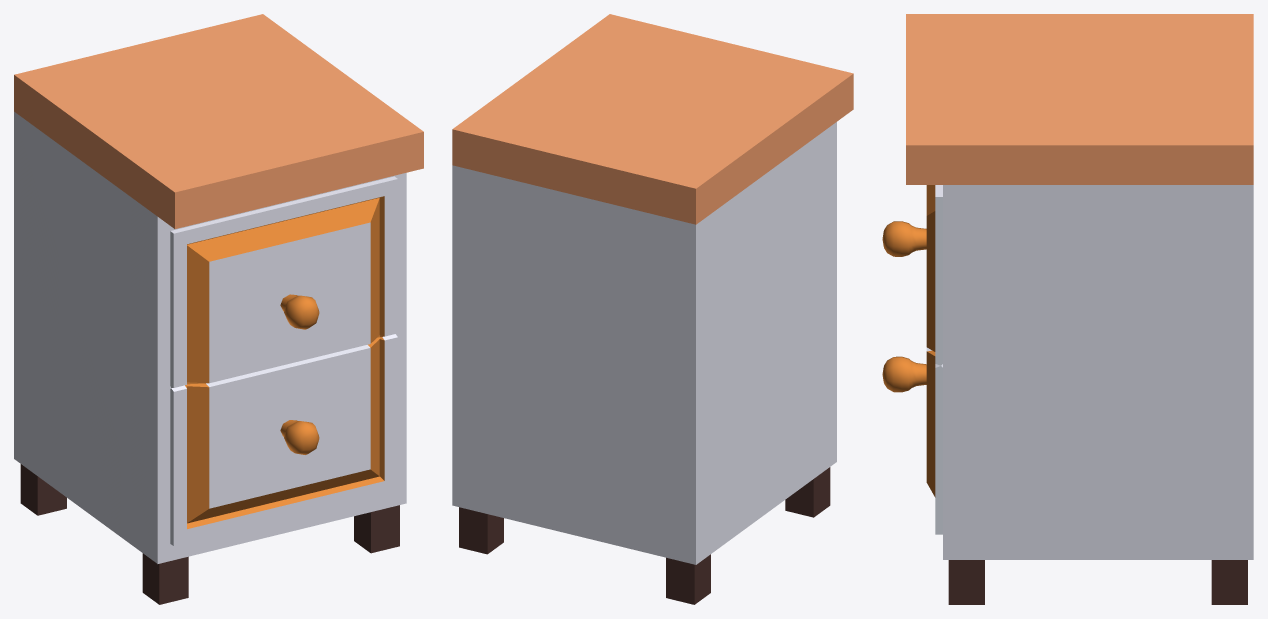
Rendered from Prop_KitchenCabinet_01_D.fbx.
3 views of the same model, side by side, from view 1: azimuth 30°, elevation 25°; view 2: azimuth 150°, elevation 25°; view 3: azimuth 270°, elevation 25° (orthographic). The views are drawn at different scales.
Visible parts, largest first — view 1: Prop_KitchenCabinet_01_D; view 2: Prop_KitchenCabinet_01_D; view 3: Prop_KitchenCabinet_01_D.
Boxes of the visible parts, x1,y1,x2,y2 form: Prop_KitchenCabinet_01_D: [14, 14, 423, 604]; Prop_KitchenCabinet_01_D: [452, 14, 853, 604]; Prop_KitchenCabinet_01_D: [882, 14, 1253, 604].
Size of the model in its own units: 60 by 98.53 by 71.71.
